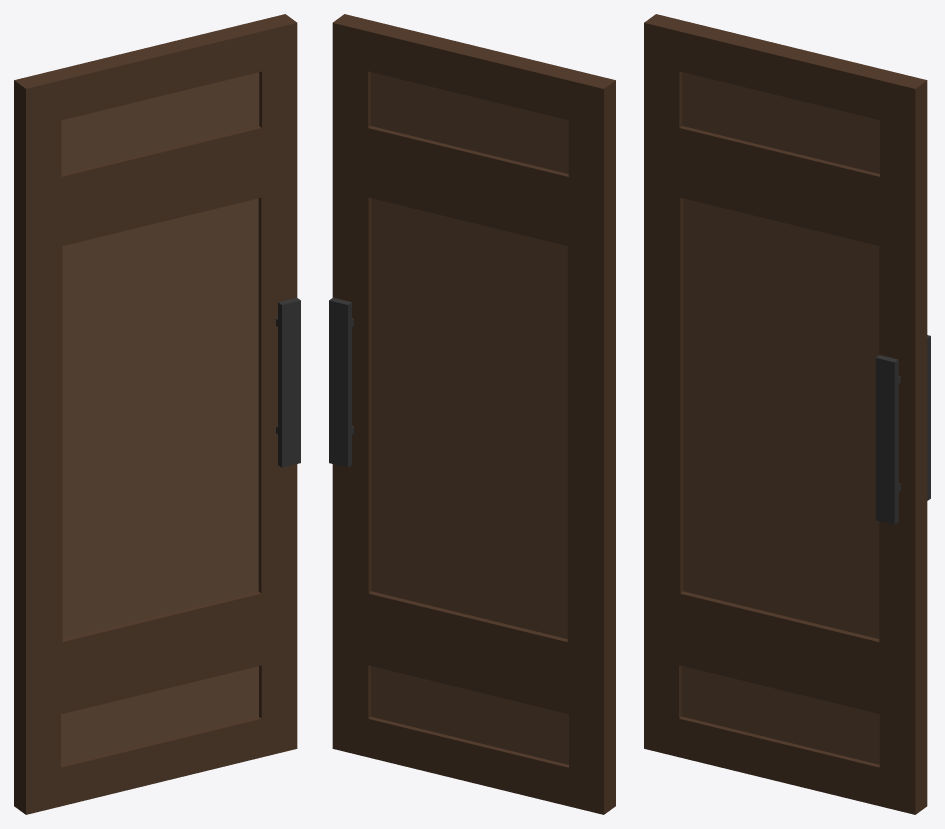
File: SM_Buildings_House_12_Door_L.fbx
3 renders of one model, left to right at view 1: azimuth 30°, elevation 25°; view 2: azimuth 150°, elevation 25°; view 3: azimuth 330°, elevation 25°, orthographic.
Visible parts, largest first — view 1: SM_Buildings_House_12_Door_L; view 2: SM_Buildings_House_12_Door_L; view 3: SM_Buildings_House_12_Door_L.
Part boxes in pixels (x1,y1,x2,y2): SM_Buildings_House_12_Door_L: (14, 14, 300, 814); SM_Buildings_House_12_Door_L: (329, 14, 615, 814); SM_Buildings_House_12_Door_L: (644, 14, 930, 814).
Size of the model in its own units: 1.09 by 2.8 by 0.2533.
